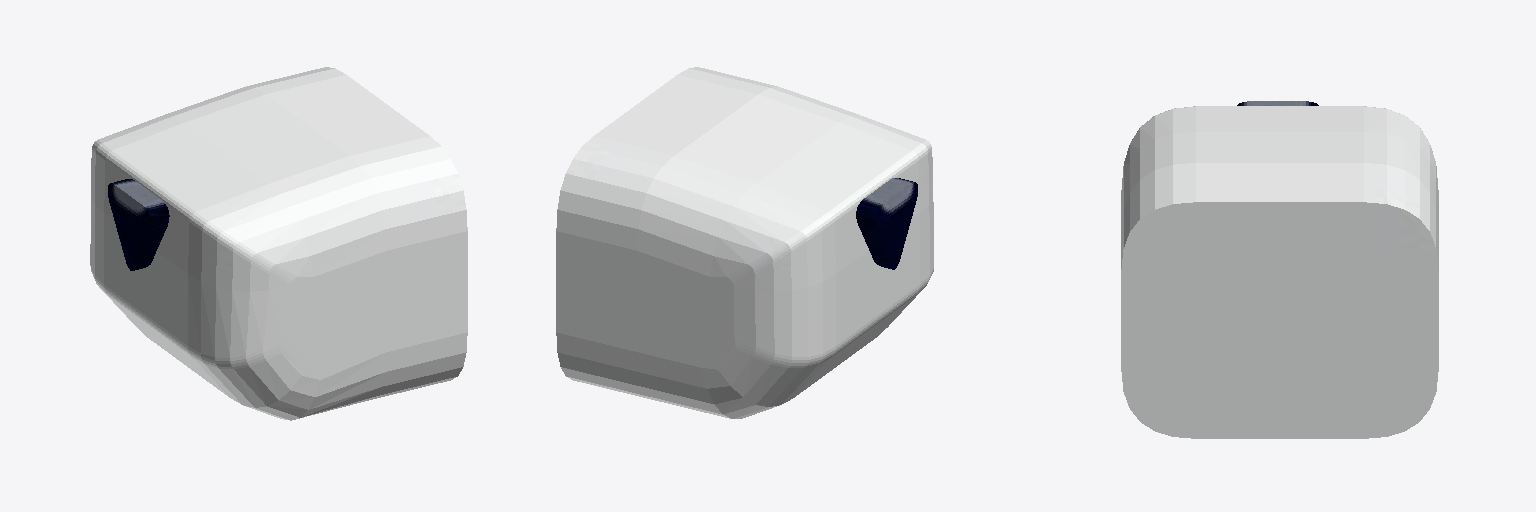
3 views of the same model, side by side, from view 1: azimuth 30°, elevation 25°; view 2: azimuth 150°, elevation 25°; view 3: azimuth 270°, elevation 25° (orthographic).
Visible parts, largest first — view 1: Box003; view 2: Box003; view 3: Box003.
Boxes of the visible parts, box(x1,y1,x2,y2) form: Box003: box(90, 67, 467, 420); Box003: box(556, 67, 933, 418); Box003: box(1121, 101, 1438, 438).
Size of the model in its own units: 8.67 by 7.41 by 9.
1 materials, 1 textured.